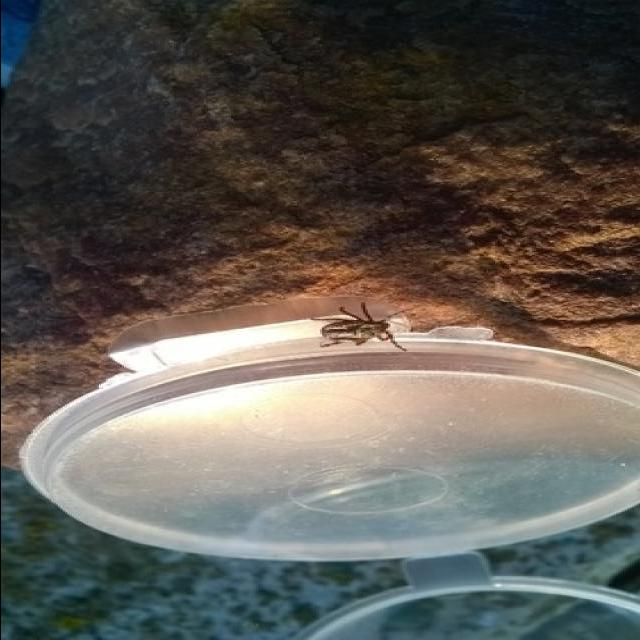Dermacentor Reticulatus-F: (317, 301, 408, 351)
